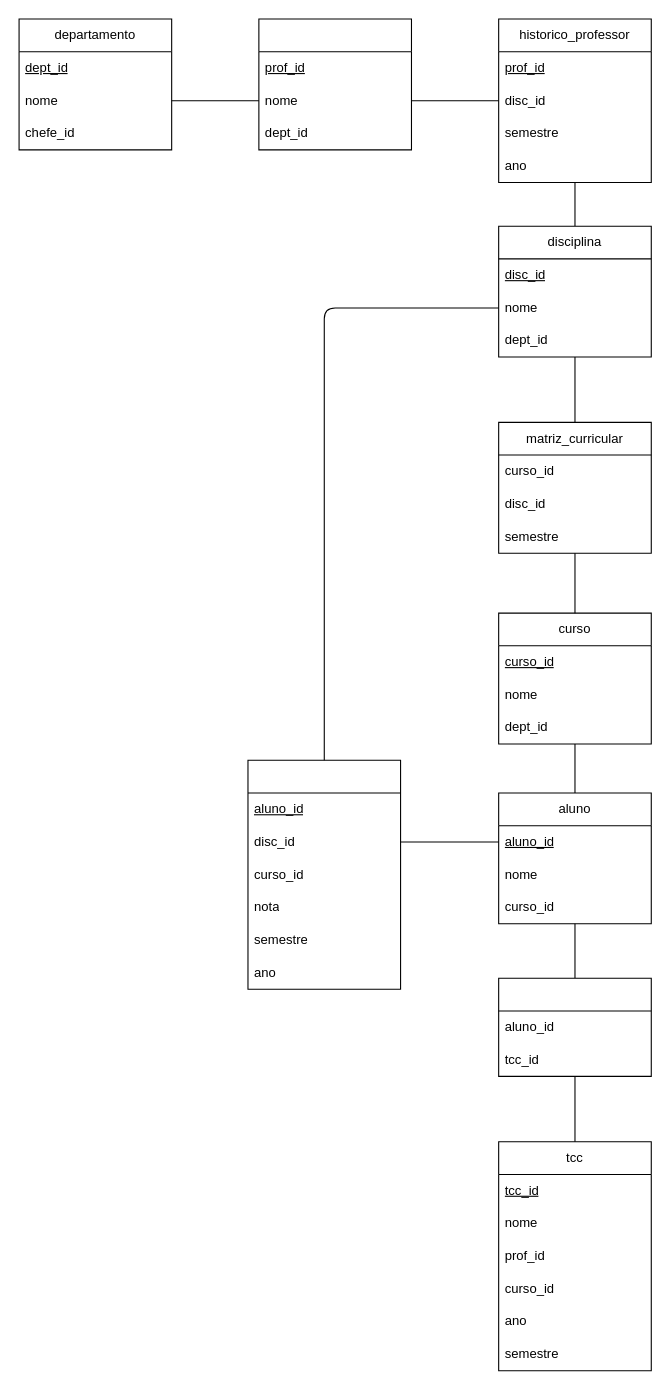
The diagram is 670 pixels wide and 1390 high, and some of its shapes have lost their labels. The shapes that lost their labels are listed below. From the top down, each one's box as (x1, y1, x2, y2) in pixels, then its label:
(258, 18, 411, 150): professor
(247, 759, 401, 989): historico_aluno
(498, 977, 651, 1076): grupo_tcc
